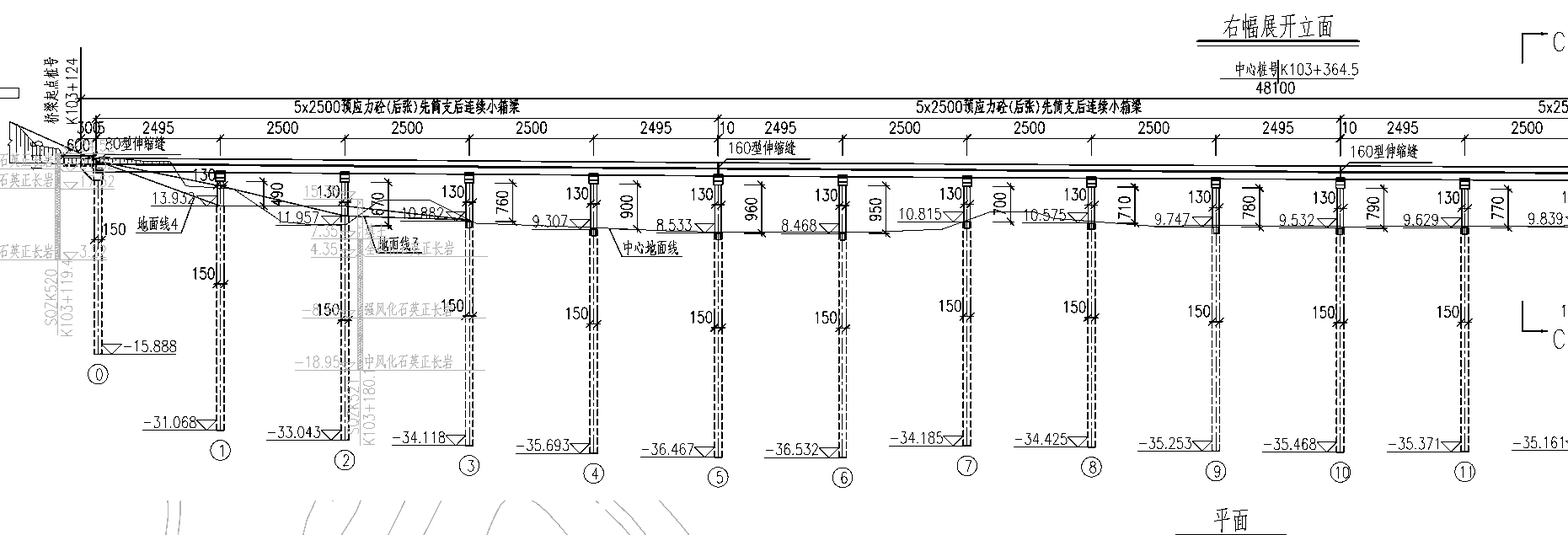C: (760, 164, 865, 495), (881, 164, 989, 484), (636, 166, 739, 492), (512, 163, 614, 491), (1008, 166, 1113, 484), (1383, 169, 1487, 490), (1259, 168, 1362, 490), (1136, 166, 1237, 487), (263, 163, 366, 476), (392, 163, 492, 483), (136, 164, 241, 468), (1518, 174, 1567, 357)
